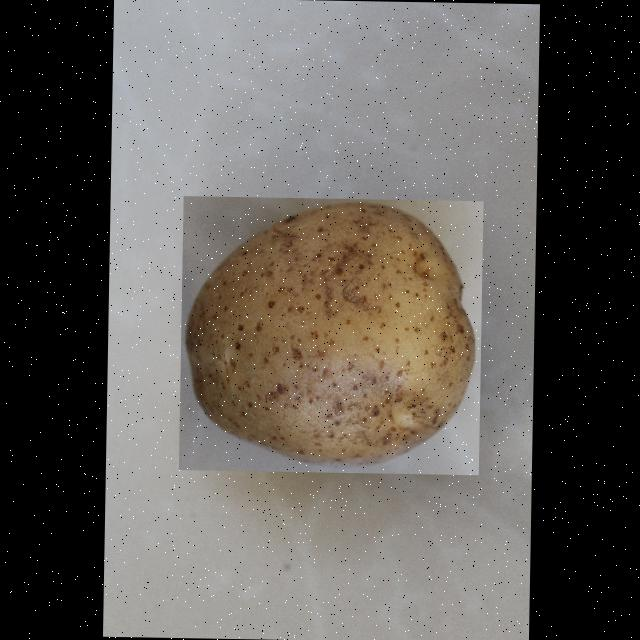Diseased-fungal potato: (177, 196, 482, 474)
